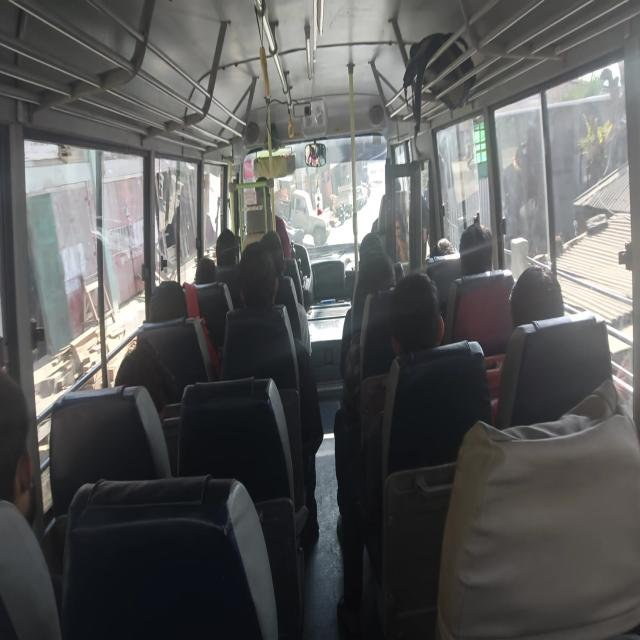person: (436, 377, 640, 638), (335, 272, 445, 634), (221, 241, 323, 544), (0, 368, 62, 638), (488, 264, 565, 422), (259, 229, 311, 356), (114, 338, 177, 424), (510, 265, 564, 329), (459, 222, 493, 276), (215, 228, 238, 267), (194, 256, 216, 284), (430, 237, 457, 258)
